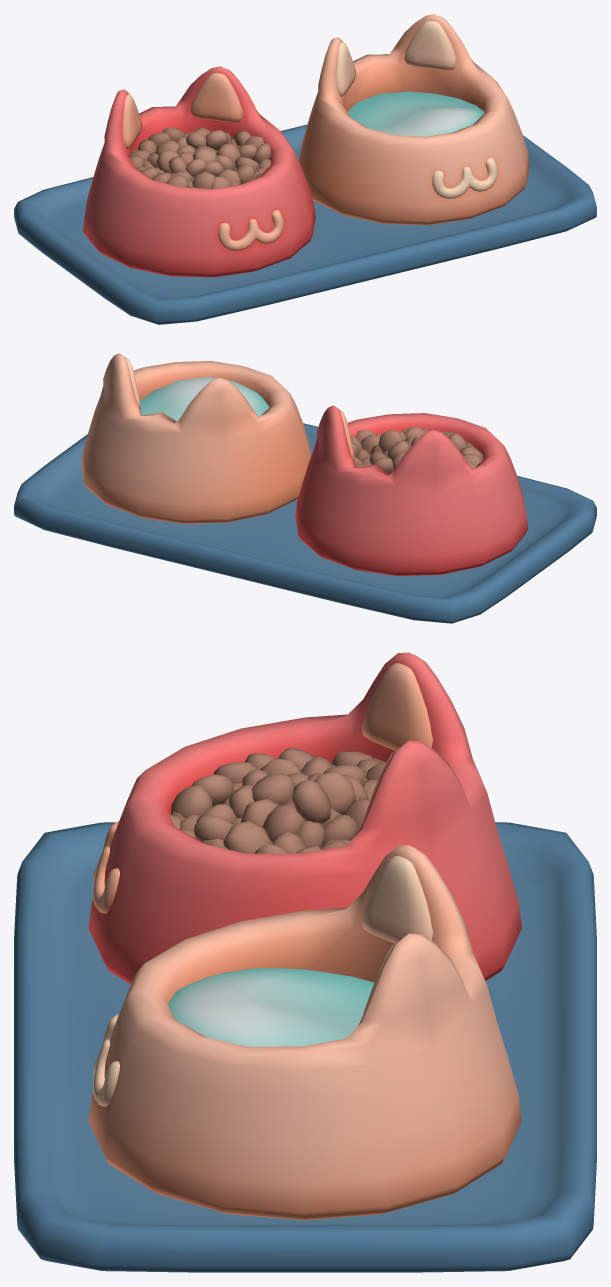
The model's file is double-bowl.glb.
3 views of the same model, one above another, from view 1: azimuth 30°, elevation 25°; view 2: azimuth 150°, elevation 25°; view 3: azimuth 270°, elevation 25° (orthographic). The views are drawn at different scales.
Parts seen in each view (by area): view 1: food-bowl; view 2: food-bowl; view 3: food-bowl.
Part boxes in pixels (x1,y1,x2,y2): food-bowl: (14, 14, 596, 324); food-bowl: (14, 353, 596, 623); food-bowl: (14, 652, 596, 1272).
Size of the model in its own units: 0.3242 by 0.099 by 0.19.
1 material, 1 textured.
